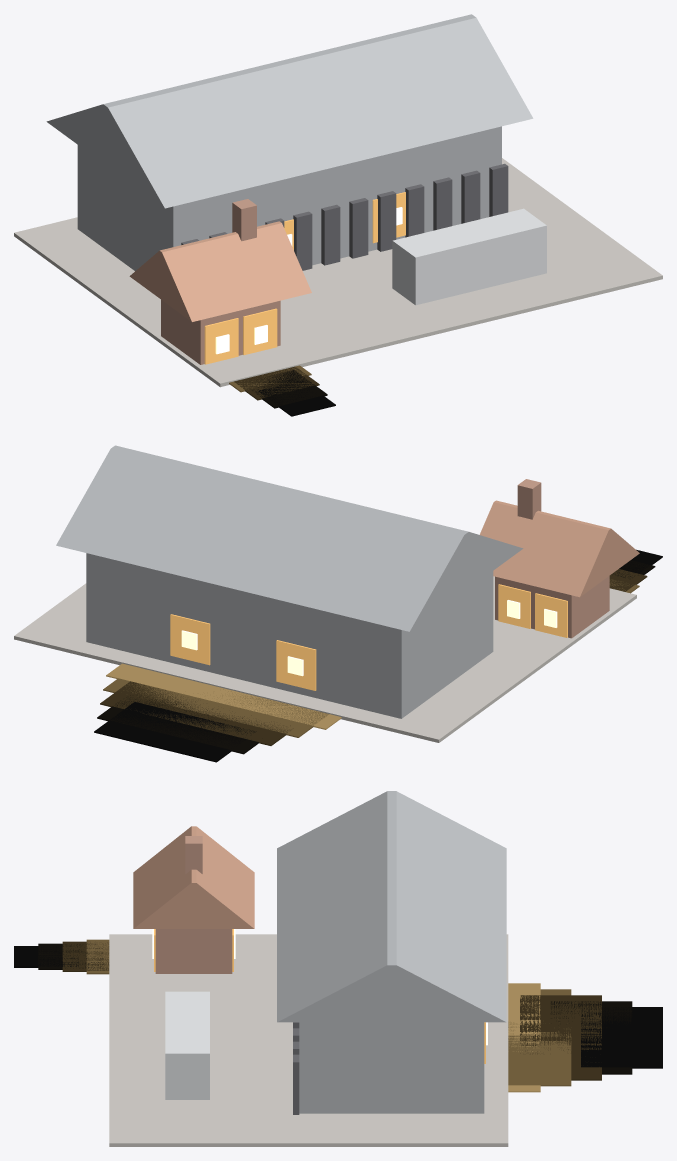
File: plc_distribution_centre.glb
3 renders of one model, top to bottom at view 1: azimuth 30°, elevation 25°; view 2: azimuth 150°, elevation 25°; view 3: azimuth 270°, elevation 25°, orthographic. The views are drawn at different scales.
Visible parts, largest first — view 1: plc_distribution_centre; view 2: plc_distribution_centre; view 3: plc_distribution_centre.
Part boxes in pixels (x1,y1,x2,y2): plc_distribution_centre: (14,14,662,416); plc_distribution_centre: (14,445,662,762); plc_distribution_centre: (14,791,662,1146).
Size of the model in its own units: 2.73 by 0.9546 by 3.46.
